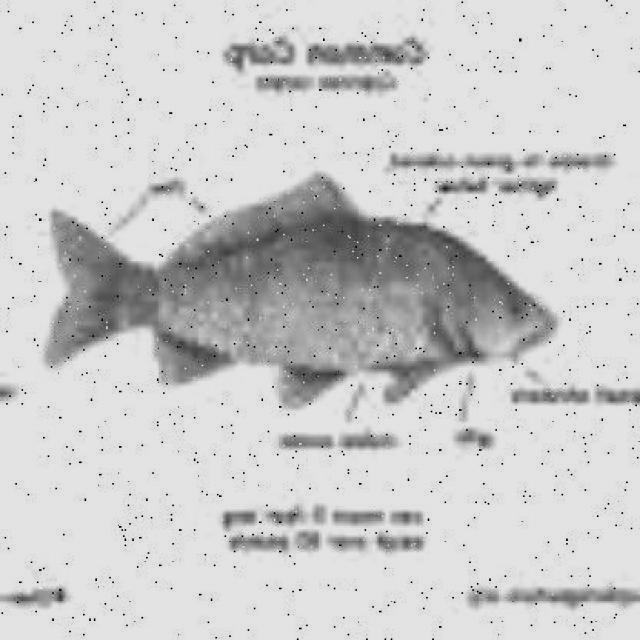ikan-mas: (34, 178, 563, 404)
